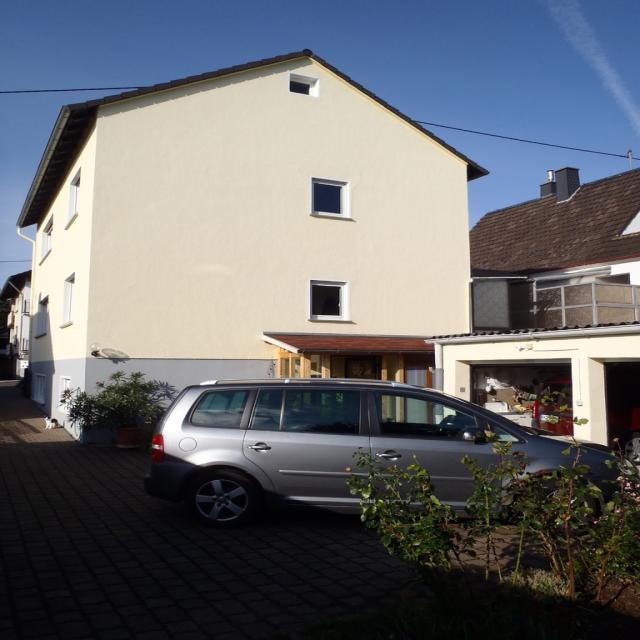car: (140, 381, 567, 529)
